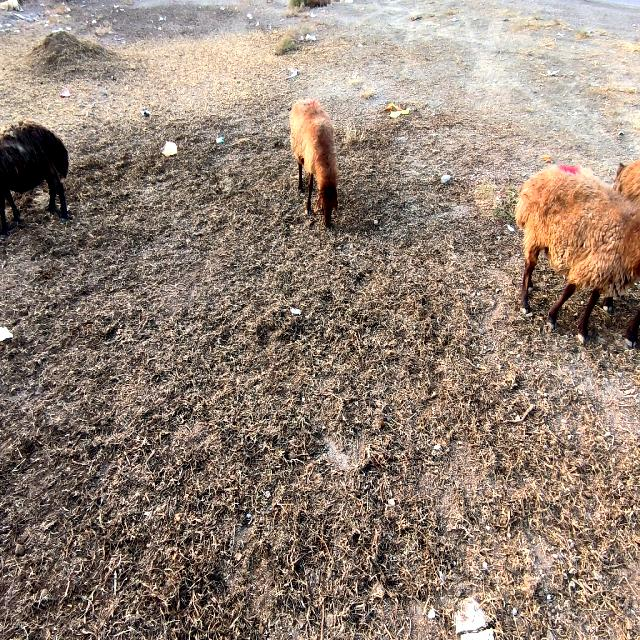sheep: (515, 167, 640, 341), (0, 120, 69, 234), (290, 98, 338, 228)
